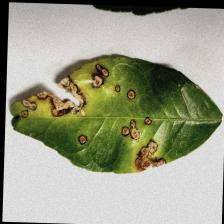canker: (15, 60, 172, 175)
